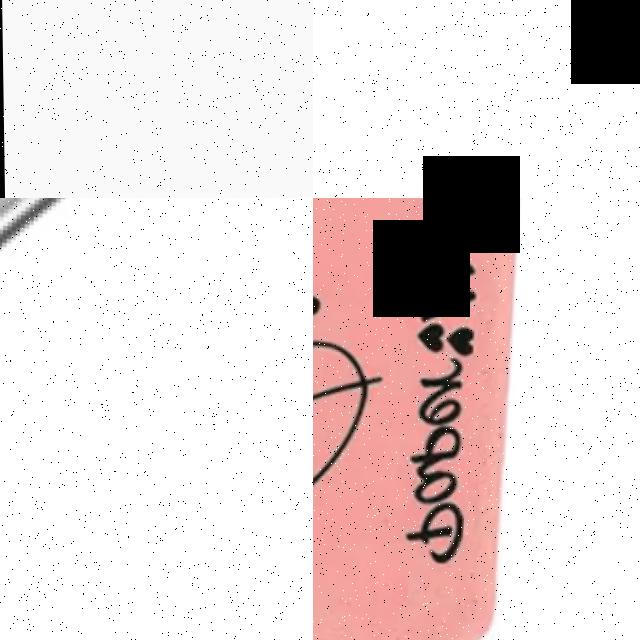Eraserrotation: (313, 198, 588, 640)
Mechanical Pencilrotation: (0, 0, 313, 198)
PaperCliprotation: (0, 198, 313, 640)
Pencilrotation: (313, 0, 640, 198)
